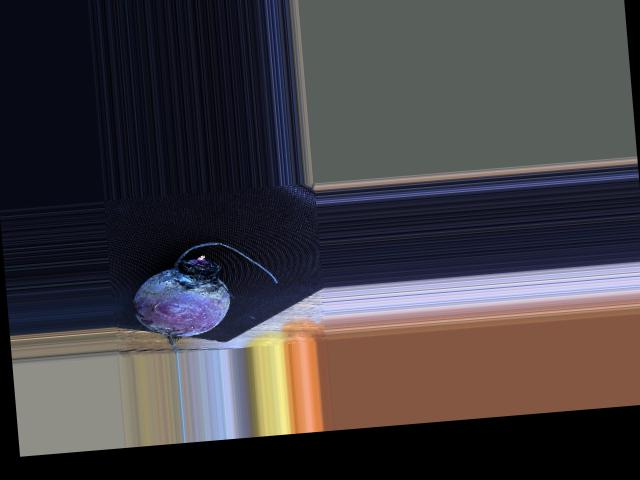beet: (127, 236, 282, 356)
